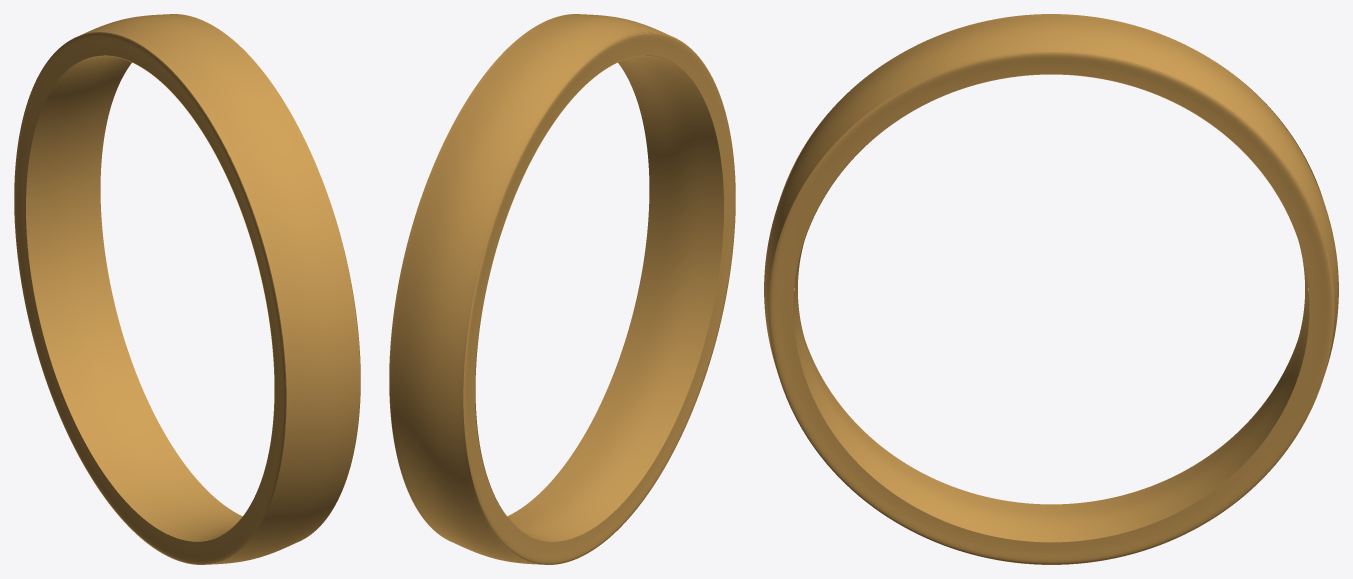
3 views of the same model, side by side, from view 1: azimuth 30°, elevation 25°; view 2: azimuth 150°, elevation 25°; view 3: azimuth 270°, elevation 25° (orthographic). The views are drawn at different scales.
Visible parts, largest first — view 1: P12-Outer, P12-Inner, P12-Sides; view 2: P12-Outer, P12-Inner, P12-Sides; view 3: P12-Sides, P12-Outer, P12-Inner.
Part boxes in pixels (x1,y1,x2,y2): P12-Outer: [48, 14, 360, 564]; P12-Inner: [26, 48, 274, 541]; P12-Sides: [14, 32, 360, 564]; P12-Outer: [389, 14, 701, 564]; P12-Inner: [475, 48, 723, 541]; P12-Sides: [389, 32, 735, 564]; P12-Sides: [768, 52, 1334, 564]; P12-Outer: [764, 14, 1338, 564]; P12-Inner: [793, 51, 1309, 542].
Size of the model in its own units: 0.00368 by 0.0234 by 0.0233.
